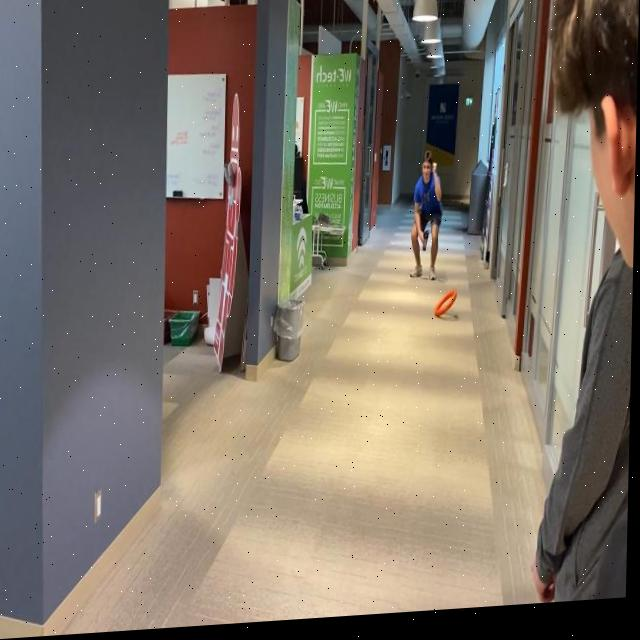note: (434, 294, 461, 328)
